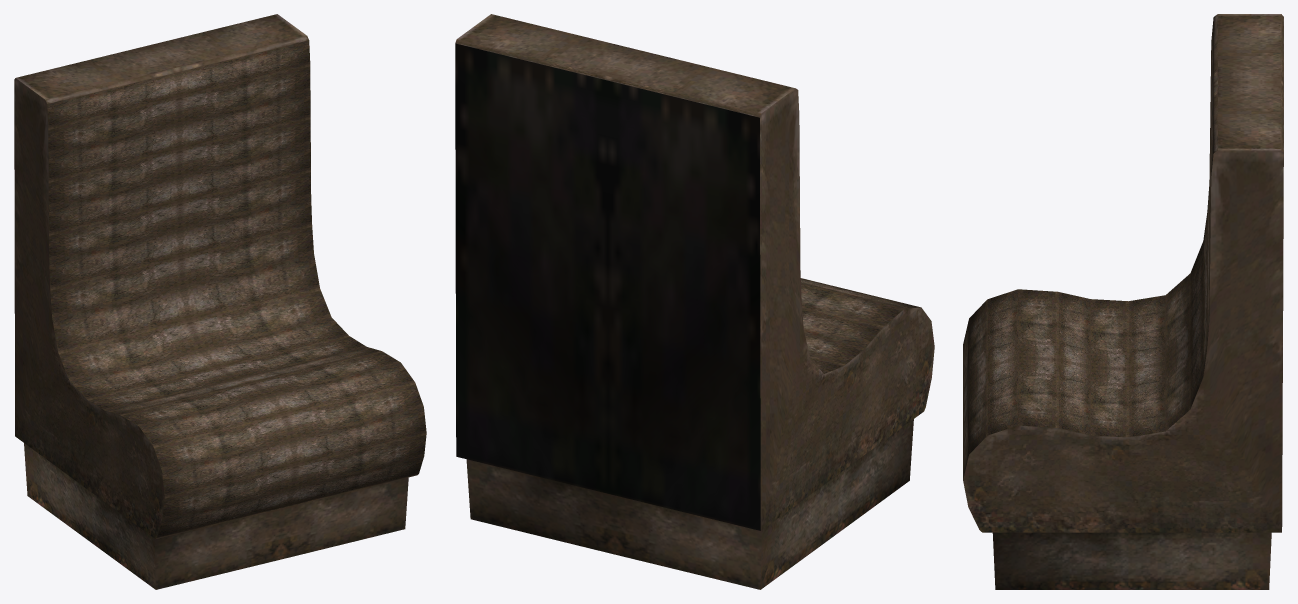
Rendered from thm_frn_chair_s01_l0.fbx.
The picture shows the model from 3 angles, left to right: view 1: azimuth 30°, elevation 25°; view 2: azimuth 150°, elevation 25°; view 3: azimuth 270°, elevation 25°; orthographic projection. The views are drawn at different scales.
Visible parts, largest first — view 1: mesh_node; view 2: mesh_node; view 3: mesh_node.
Boxes of the visible parts, x1,y1,x2,y2 form: mesh_node: [14, 14, 426, 589]; mesh_node: [455, 14, 934, 589]; mesh_node: [963, 14, 1283, 589].
Size of the model in its own units: 0.7254 by 1.1 by 0.7214.
Materials: 1 (1 with a texture image).
